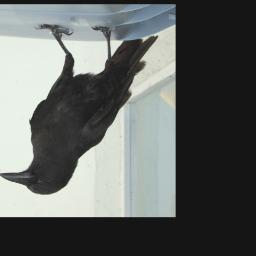Crow: (0, 22, 158, 196)
